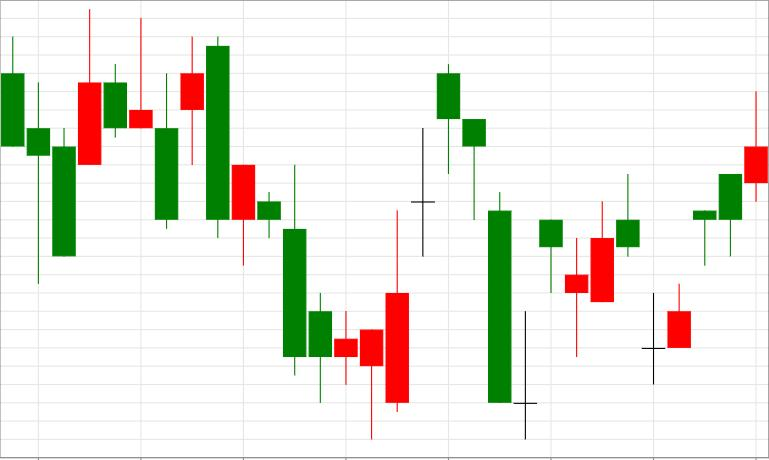hanging_man_fall: (334, 64, 460, 439)
shooting_star_fall: (642, 91, 768, 385)
